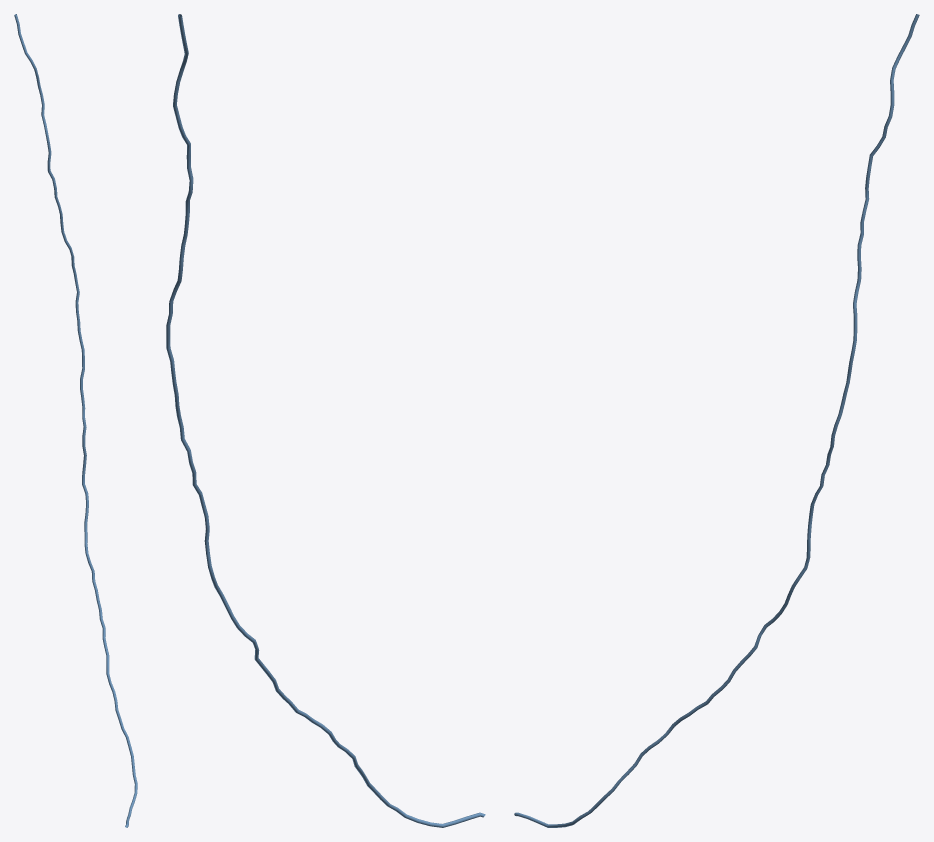
Rendered from sweep332.fbx.
3 renders of one model, left to right at view 1: azimuth 30°, elevation 25°; view 2: azimuth 150°, elevation 25°; view 3: azimuth 270°, elevation 25°, orthographic. The views are drawn at different scales.
Parts seen in each view (by area): view 1: sweep332; view 2: sweep332; view 3: sweep332.
Part boxes in pixels (x1,y1,x2,y2): sweep332: [14, 14, 137, 827]; sweep332: [166, 14, 485, 827]; sweep332: [514, 14, 919, 827].
Bounding box in the file's own units: 0.7001 × 5.01 × 2.2.
